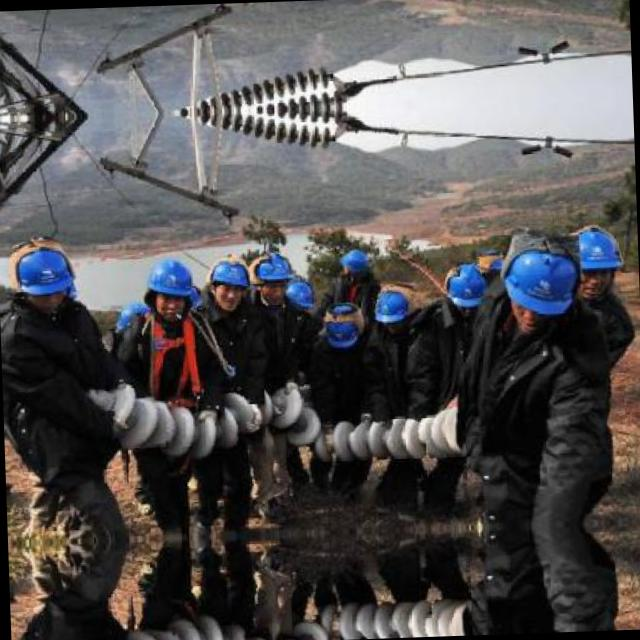helmet: (502, 240, 578, 320), (11, 238, 78, 310), (571, 222, 625, 302), (140, 253, 196, 324), (204, 255, 248, 309), (252, 246, 290, 306), (323, 300, 366, 352), (444, 263, 486, 309), (372, 285, 409, 322), (339, 246, 368, 287), (284, 278, 312, 320)
